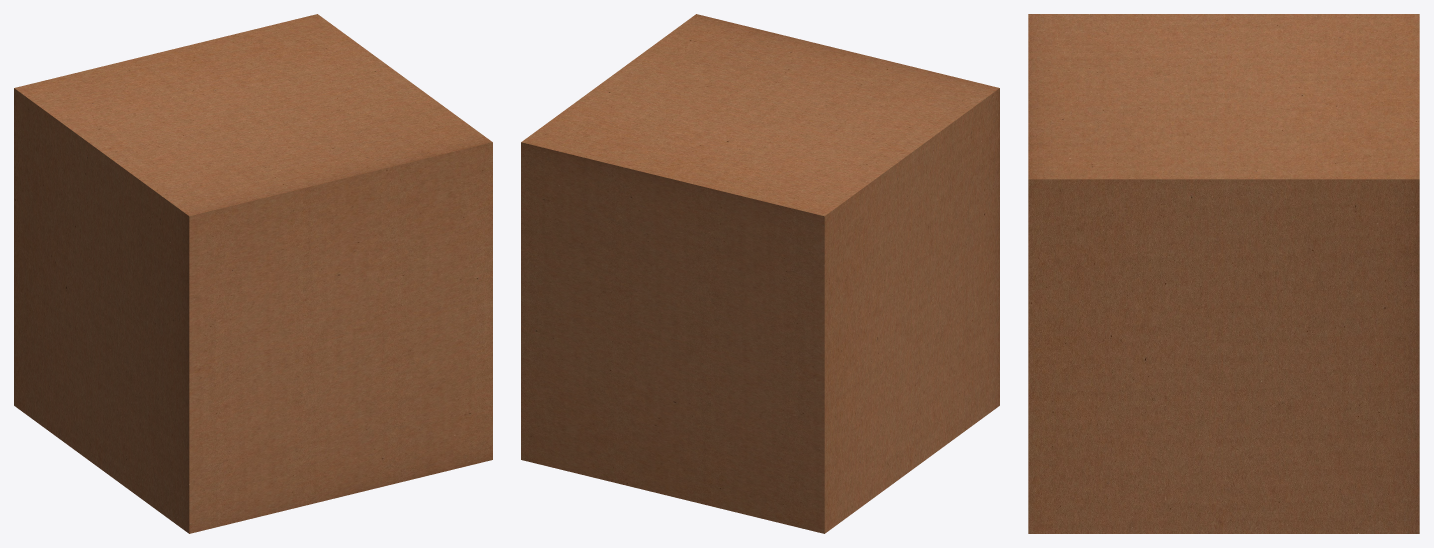
The model's file is CardBoardBox.fbx.
3 renders of one model, left to right at view 1: azimuth 30°, elevation 25°; view 2: azimuth 150°, elevation 25°; view 3: azimuth 270°, elevation 25°, orthographic. The views are drawn at different scales.
Visible parts, largest first — view 1: pCube2; view 2: pCube2; view 3: pCube2.
Part boxes in pixels (<box>): pCube2: <box>14,14,492,533</box>; pCube2: <box>521,14,999,533</box>; pCube2: <box>1028,14,1419,533</box>.
Size of the model in its own units: 0.01 by 0.01 by 0.01.
Materials: 1 (1 with a texture image).
